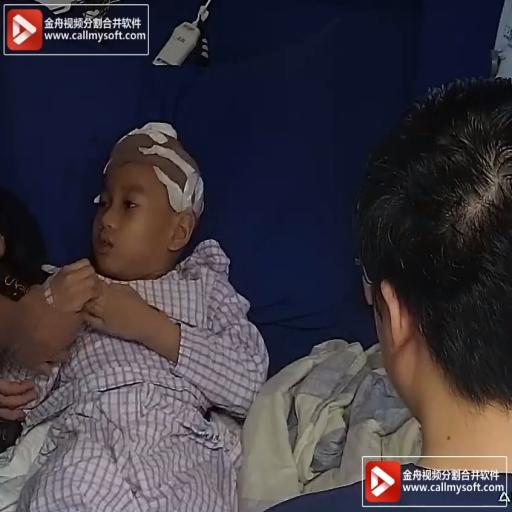Seizure: (90, 129, 193, 254)
